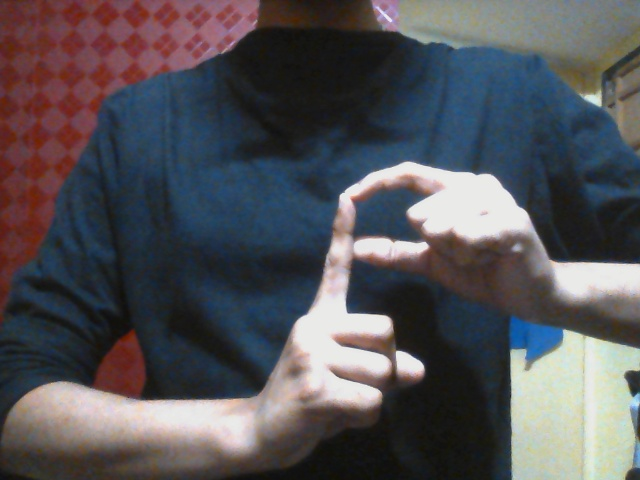P: (259, 158, 508, 460)
